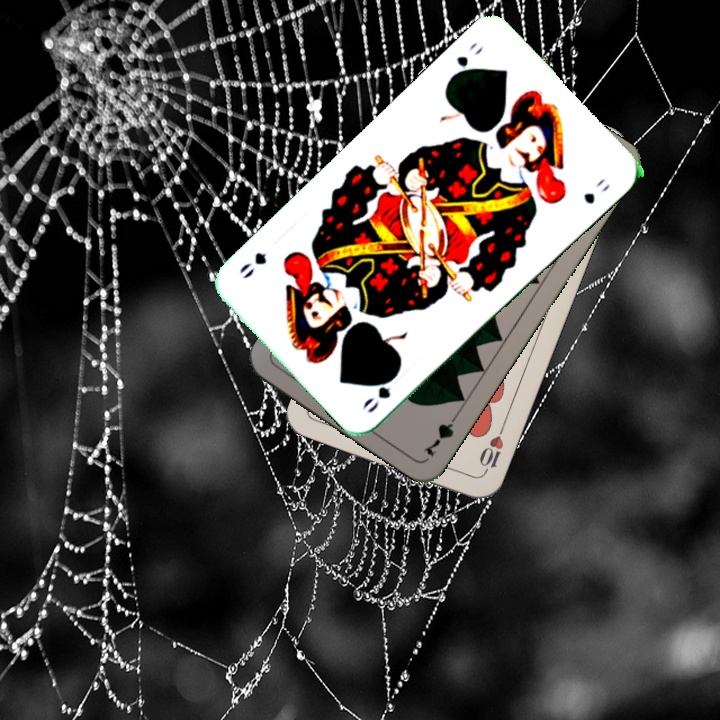G7: (419, 407, 462, 459)
GO: (358, 365, 403, 416), (445, 37, 486, 83)
H10: (475, 422, 507, 478)
